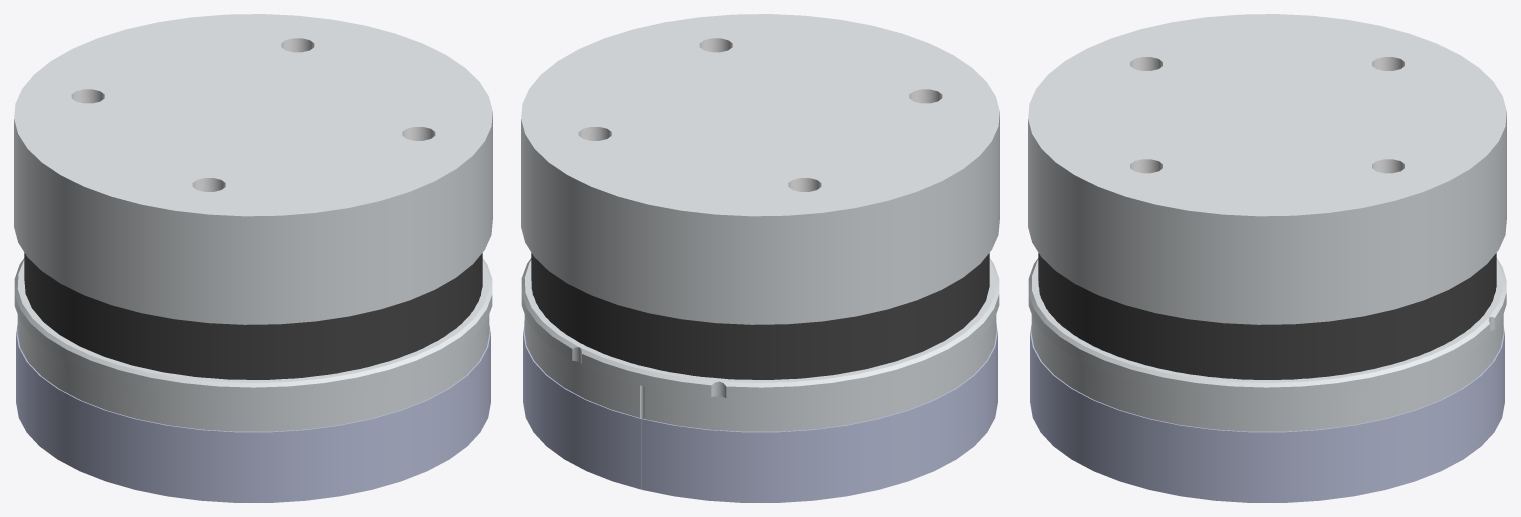
The model's file is force_sensor.DAE.
The picture shows the model from 3 angles, left to right: view 1: azimuth 30°, elevation 25°; view 2: azimuth 150°, elevation 25°; view 3: azimuth 270°, elevation 25°; orthographic projection.
Parts seen in each view (by area): view 1: stitch_result_stitchFBXASC032all, stitch_result_stitchFBXASC032all_ncl1_3, stitch_result_stitchFBXASC032all_ncl1_2, stitch_result_stitchFBXASC032all_ncl1_1; view 2: stitch_result_stitchFBXASC032all, stitch_result_stitchFBXASC032all_ncl1_3, stitch_result_stitchFBXASC032all_ncl1_2, stitch_result_stitchFBXASC032all_ncl1_1; view 3: stitch_result_stitchFBXASC032all, stitch_result_stitchFBXASC032all_ncl1_3, stitch_result_stitchFBXASC032all_ncl1_2, stitch_result_stitchFBXASC032all_ncl1_1.
Part boxes in pixels (box(x1,y1,x2,y2)): stitch_result_stitchFBXASC032all: box(14, 14, 492, 324); stitch_result_stitchFBXASC032all_ncl1_3: box(16, 325, 490, 502); stitch_result_stitchFBXASC032all_ncl1_2: box(14, 258, 492, 431); stitch_result_stitchFBXASC032all_ncl1_1: box(24, 253, 482, 379); stitch_result_stitchFBXASC032all: box(521, 14, 999, 324); stitch_result_stitchFBXASC032all_ncl1_3: box(523, 326, 997, 502); stitch_result_stitchFBXASC032all_ncl1_2: box(521, 258, 999, 431); stitch_result_stitchFBXASC032all_ncl1_1: box(531, 253, 989, 379); stitch_result_stitchFBXASC032all: box(1028, 14, 1506, 324); stitch_result_stitchFBXASC032all_ncl1_3: box(1030, 326, 1504, 502); stitch_result_stitchFBXASC032all_ncl1_2: box(1028, 258, 1506, 431); stitch_result_stitchFBXASC032all_ncl1_1: box(1038, 253, 1496, 379).
Bounding box in the file's own units: 70 × 69.95 × 46.4.
